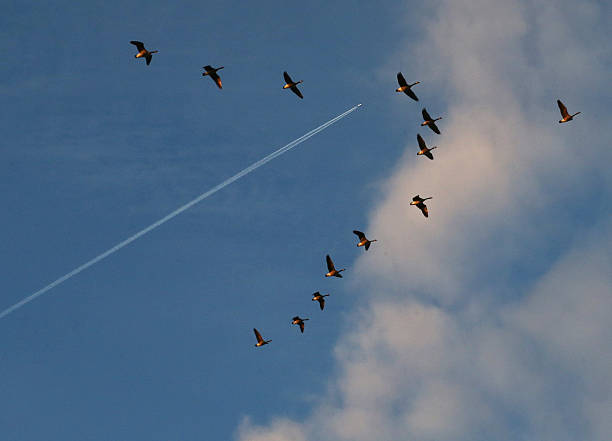goose: (394, 70, 422, 105), (128, 39, 160, 69), (279, 68, 307, 101), (554, 97, 584, 127), (351, 228, 379, 258), (198, 64, 228, 91), (408, 191, 436, 219), (414, 132, 438, 164), (419, 105, 444, 135), (323, 252, 346, 283), (249, 326, 274, 351), (310, 289, 331, 313), (290, 314, 311, 334)
